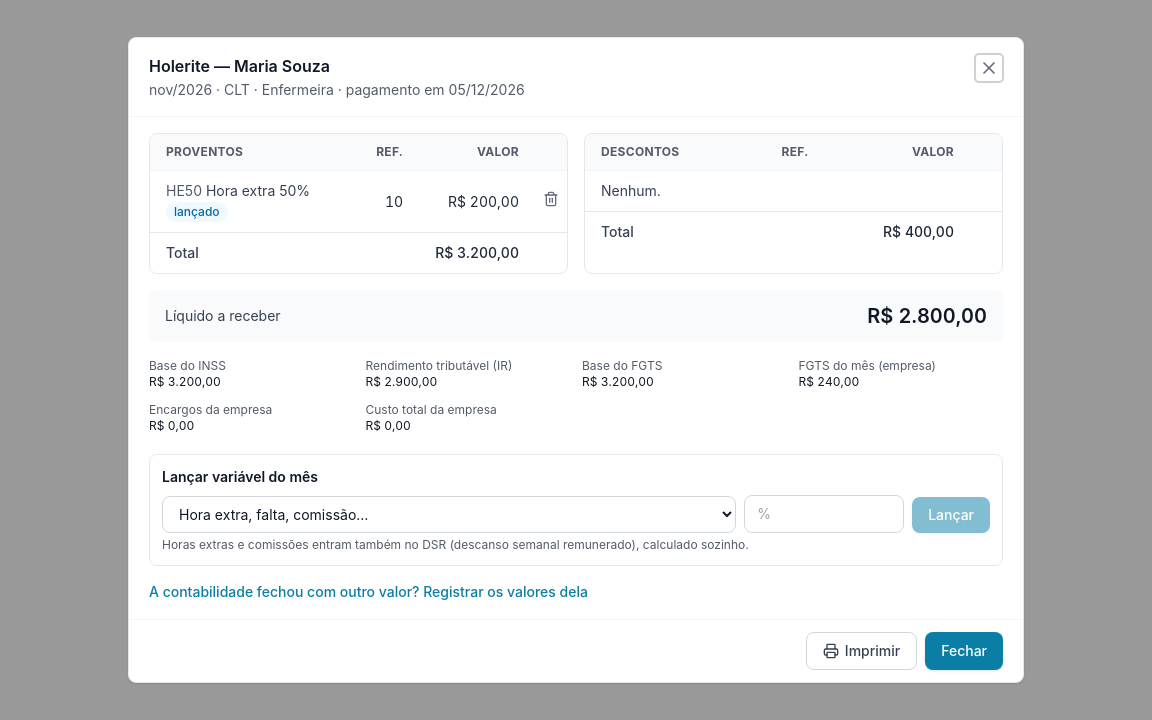
Test case: HoleriteModal: remover lançamento › falha da API: avisa o erro, não avisa sucesso e o item continua na tela
Step 1. Click the button named "Remover Hora extra 50%" → click(551, 199), box [543,191,559,207]
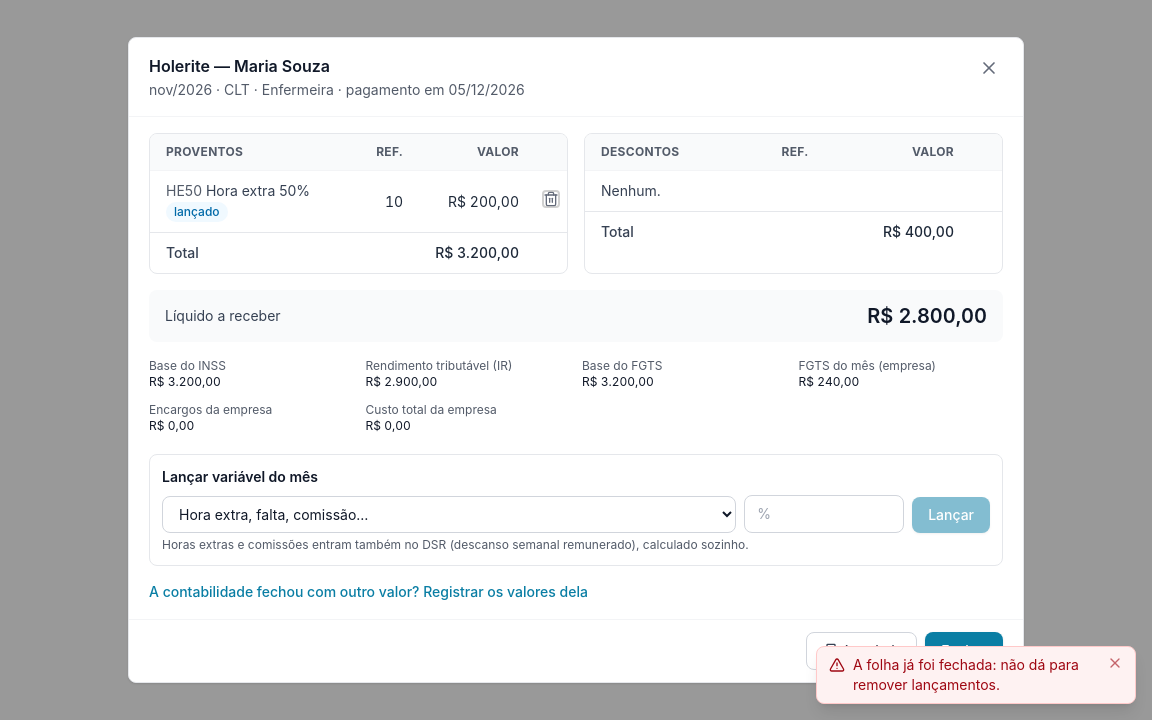
Expected: the text "Hora extra 50%" is shown, [206,182,310,199]
Expected: the message reads "A folha já foi fechada: não dá para remover lançamentos.", [853,656,1079,693]
